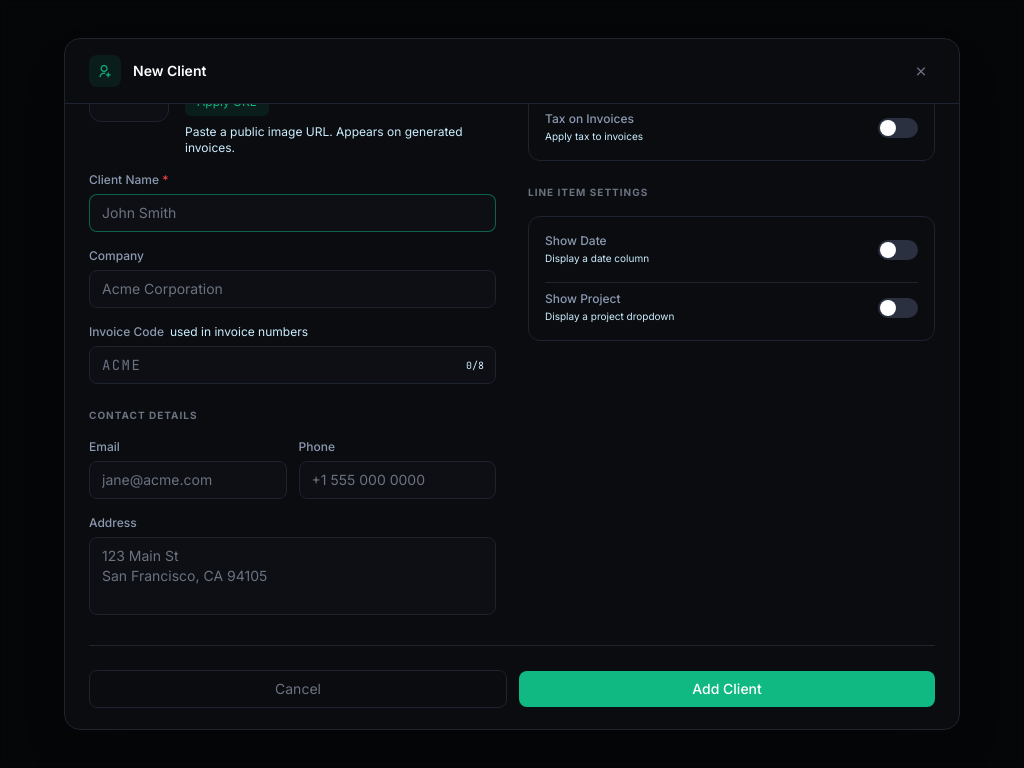
Test: ClientFormModal › shows error if name is empty
The width and height of the screenshot is (1024, 768).
(page scrolled)
Step 1. Click the button "Add Client" → (727, 689), box [519,671,935,707]
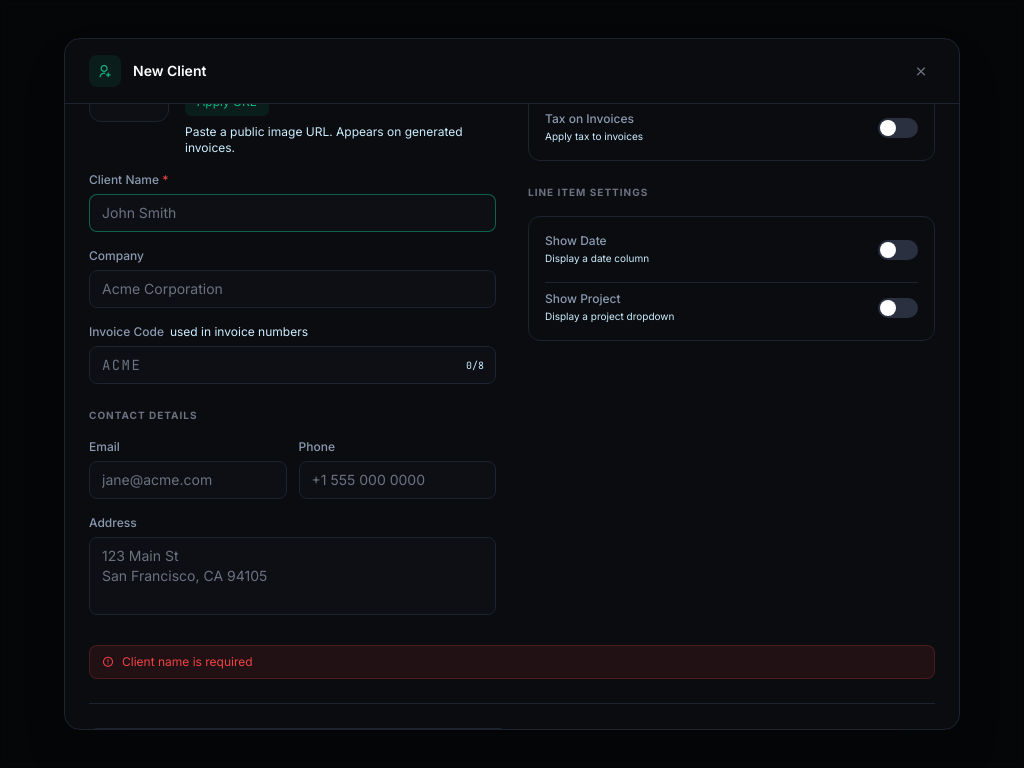
Expected: the text "Client name is required" is shown, [89,645,935,679]
